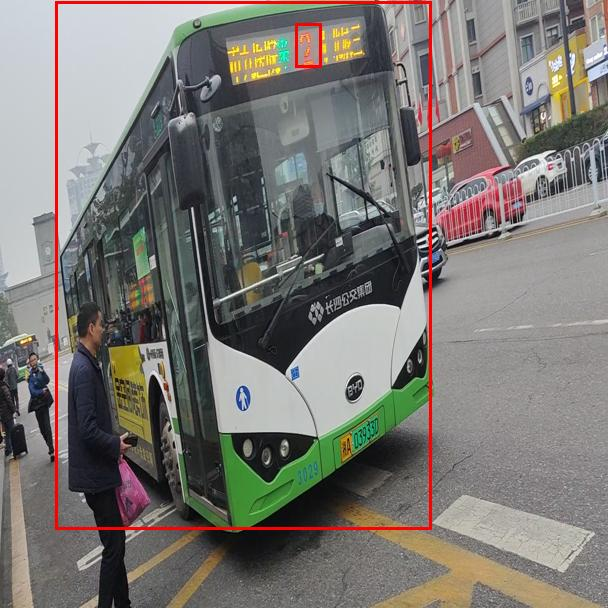bus: (55, 1, 431, 529)
screen: (295, 23, 321, 67)
